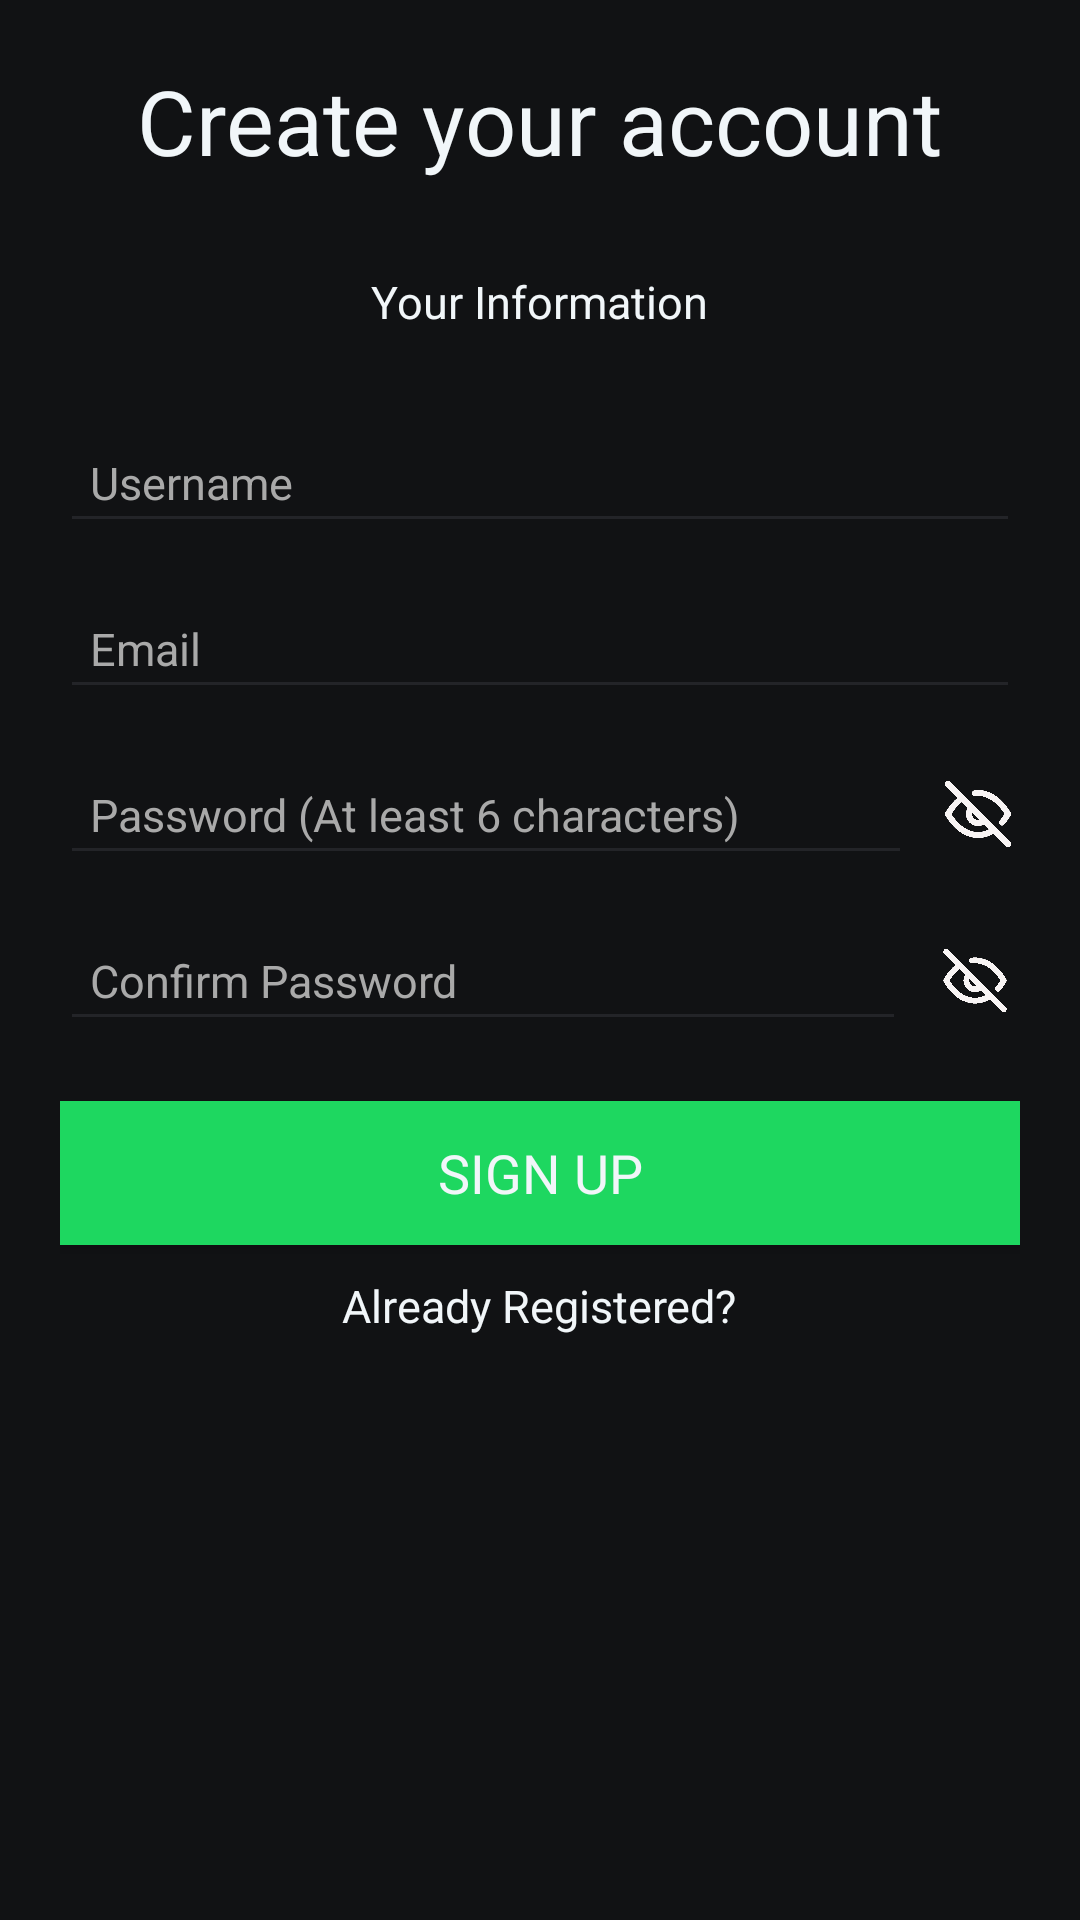

Icons on this 1080w x 1920h Android screen, each with the point to tap as [x,y]:
Toggle password visibility: [978,814], [975,980]
